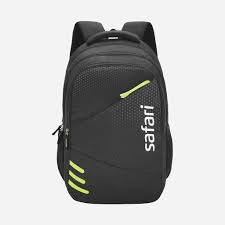backpack: (52, 19, 173, 204)
